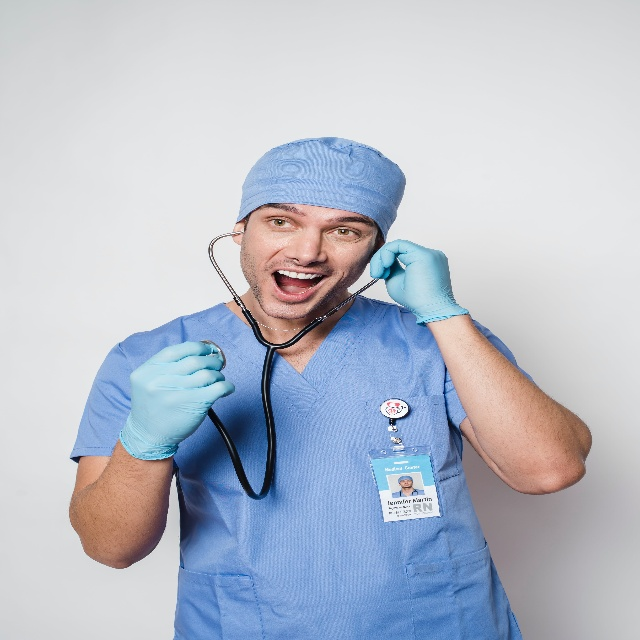Guantes: (118, 341, 235, 460), (369, 238, 469, 327)
